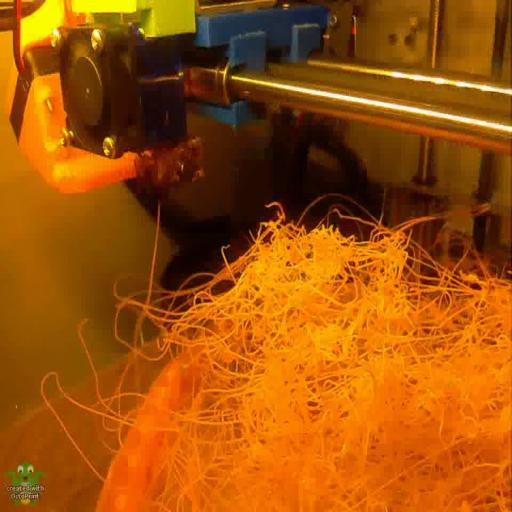spaghetti: (130, 200, 508, 512)
